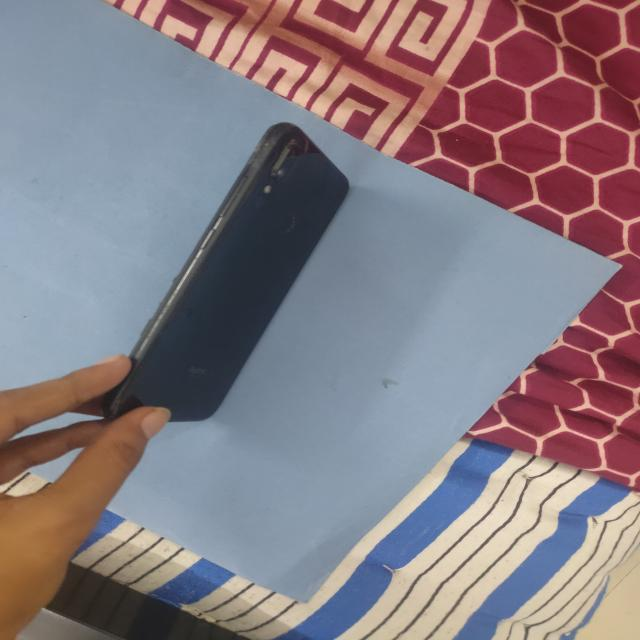Phone: (96, 117, 354, 430)
